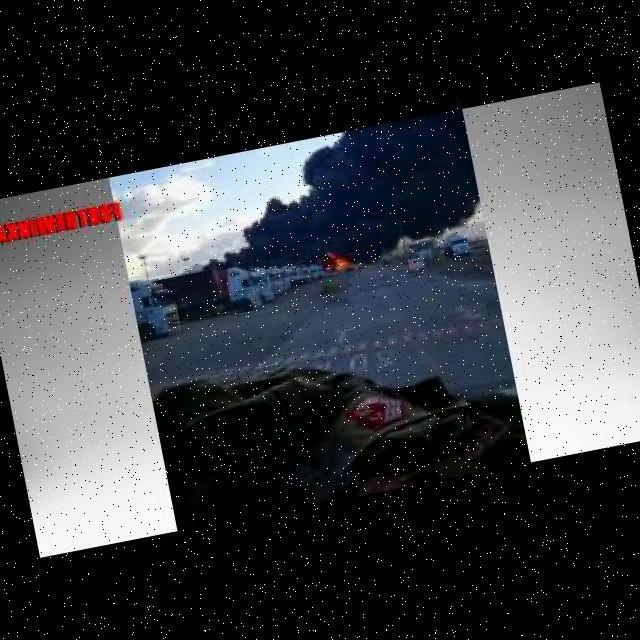Fire: (326, 251, 353, 273)
Smoke: (219, 111, 487, 276)
